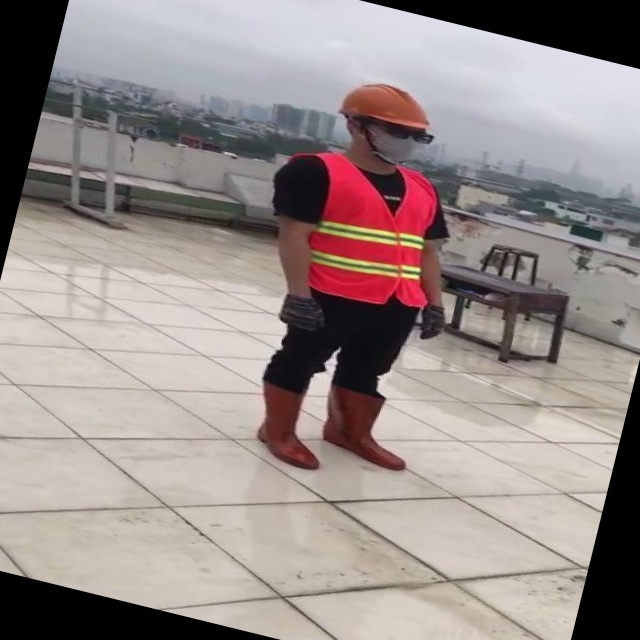boots: (264, 390, 357, 475), (345, 375, 443, 453)
gloves: (269, 289, 334, 341), (411, 268, 462, 320)
helmet: (284, 70, 382, 116)
vest: (254, 149, 422, 293)
